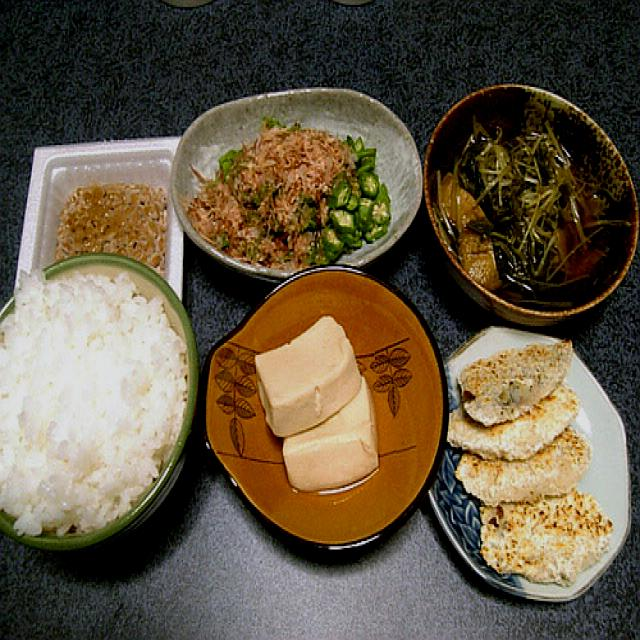rice: (5, 287, 164, 545)
